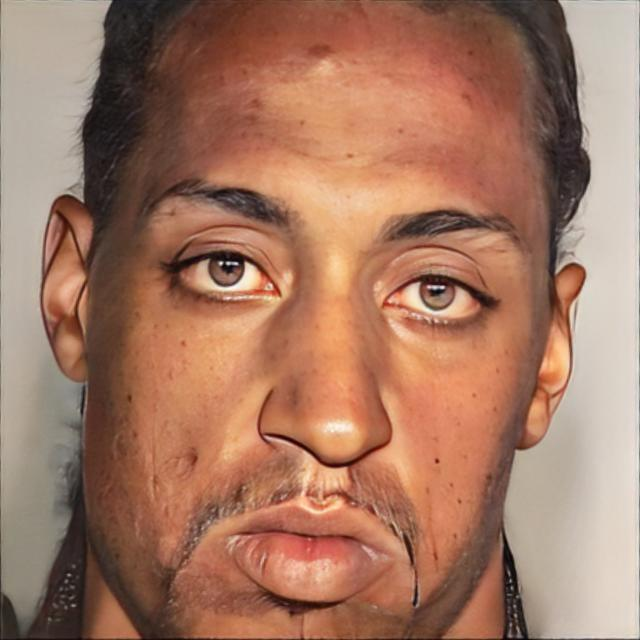neutral: (87, 0, 550, 640)
